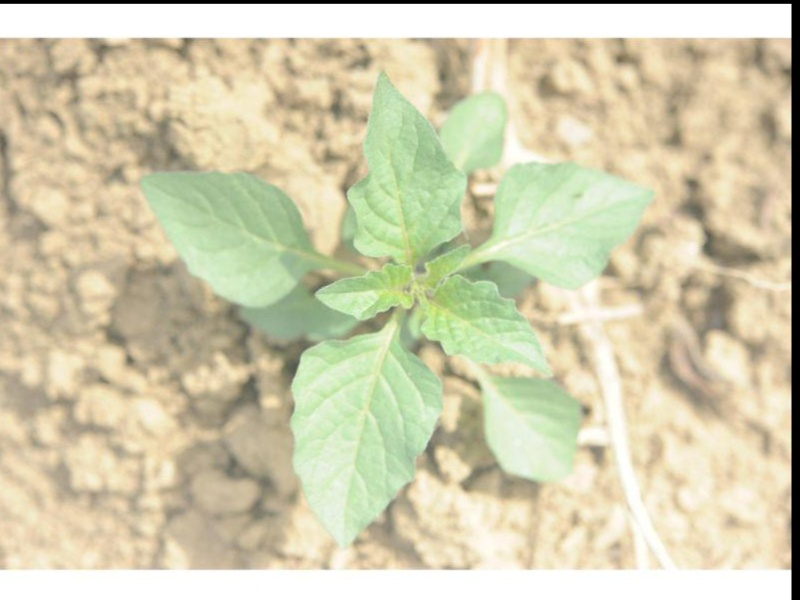nightshade: (139, 67, 654, 544)
